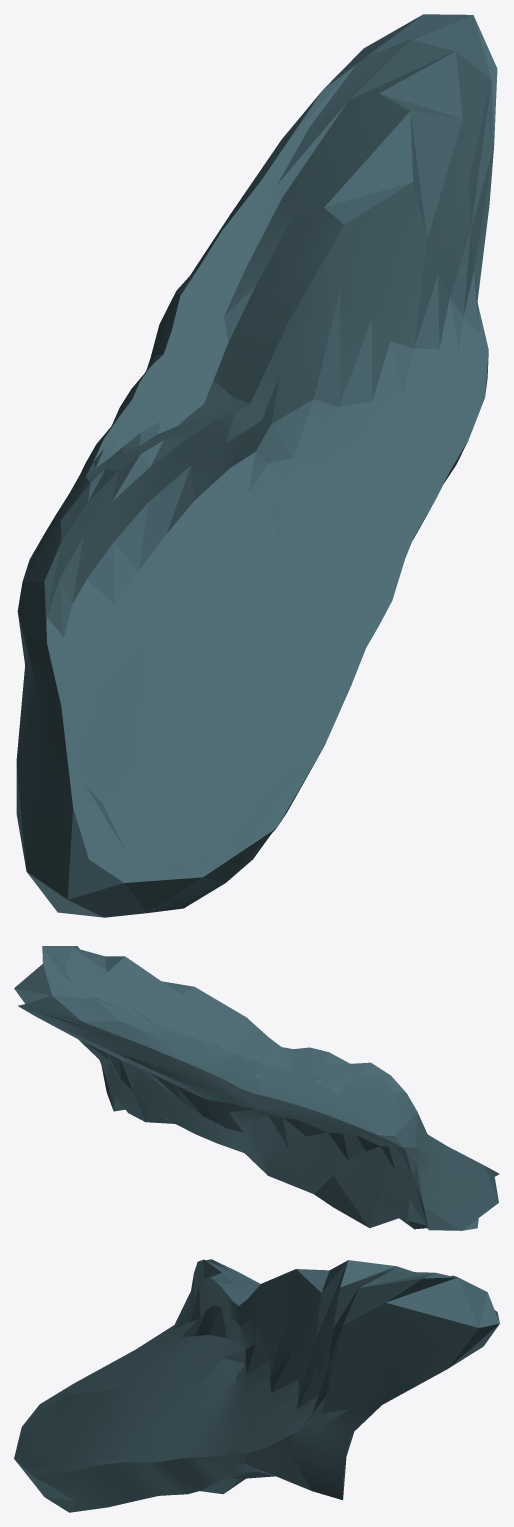
File: small-oxide-asteroid.glb
The picture shows the model from 3 angles, top to bottom: view 1: azimuth 30°, elevation 25°; view 2: azimuth 150°, elevation 25°; view 3: azimuth 270°, elevation 25°; orthographic projection. The views are drawn at different scales.
Parts seen in each view (by area): view 1: body; view 2: body; view 3: body.
Part boxes in pixels (<box>): body: <box>16,14,497,917</box>; body: <box>14,946,499,1230</box>; body: <box>14,1259,499,1512</box>.
Size of the model in its own units: 1.42 by 1.15 by 1.22.
